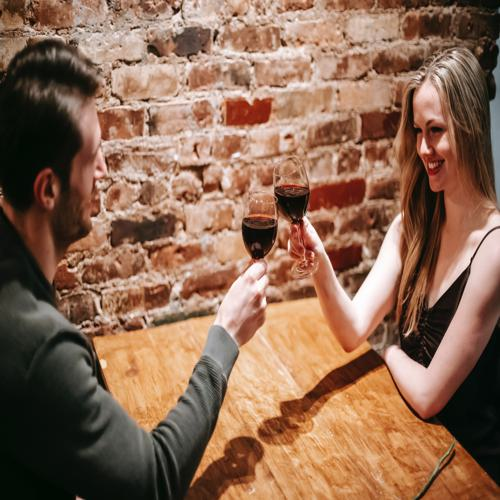vaso: (270, 158, 331, 283), (243, 191, 279, 272)
